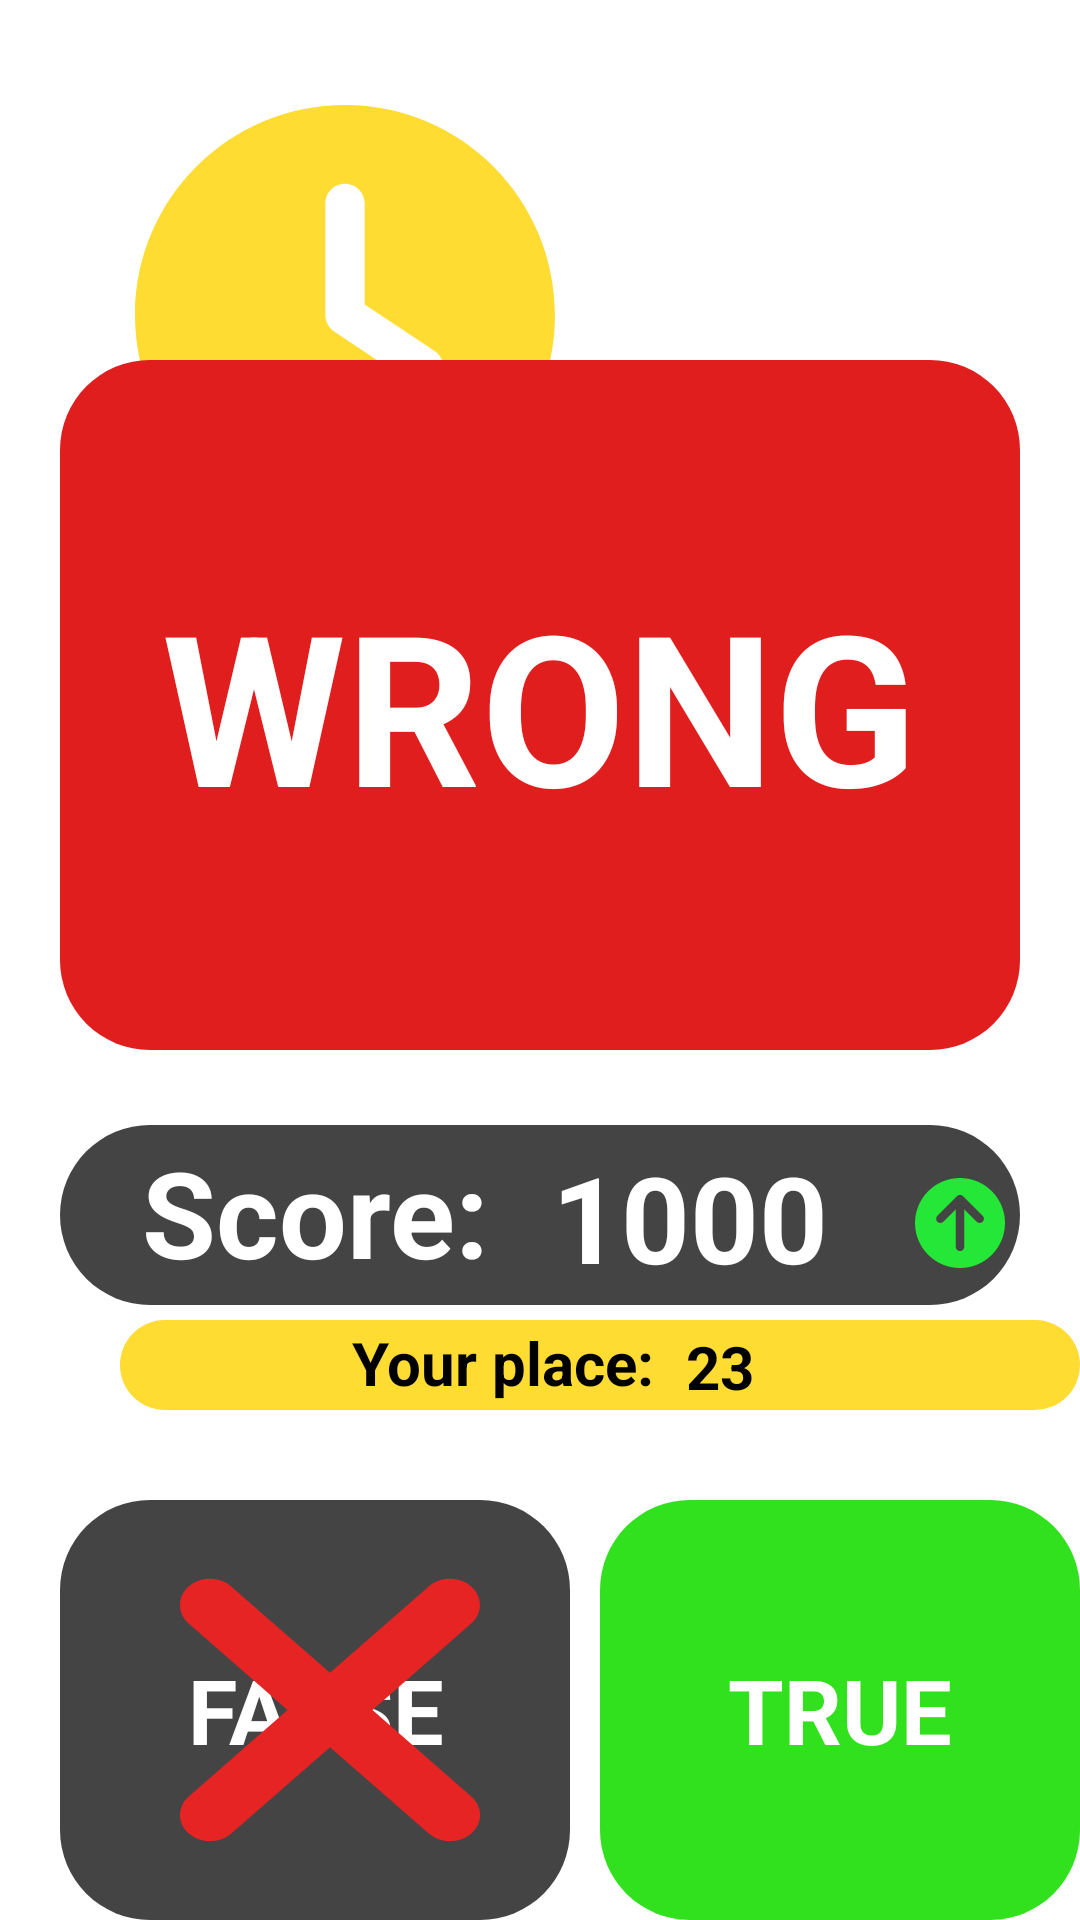

Locate icon controls on the screen. Image size 1080px x 1920px, boxes as (x1, y1, x2, y2).
xmark: (180, 1578, 480, 1842)
